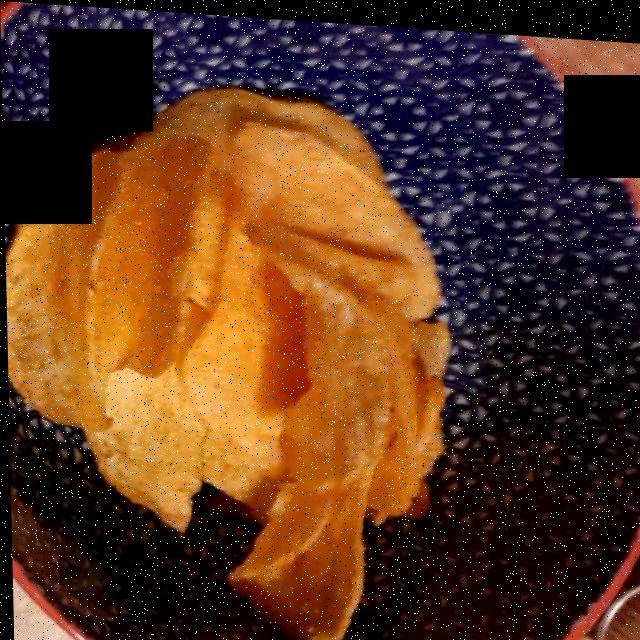crisps: (5, 92, 461, 632)
